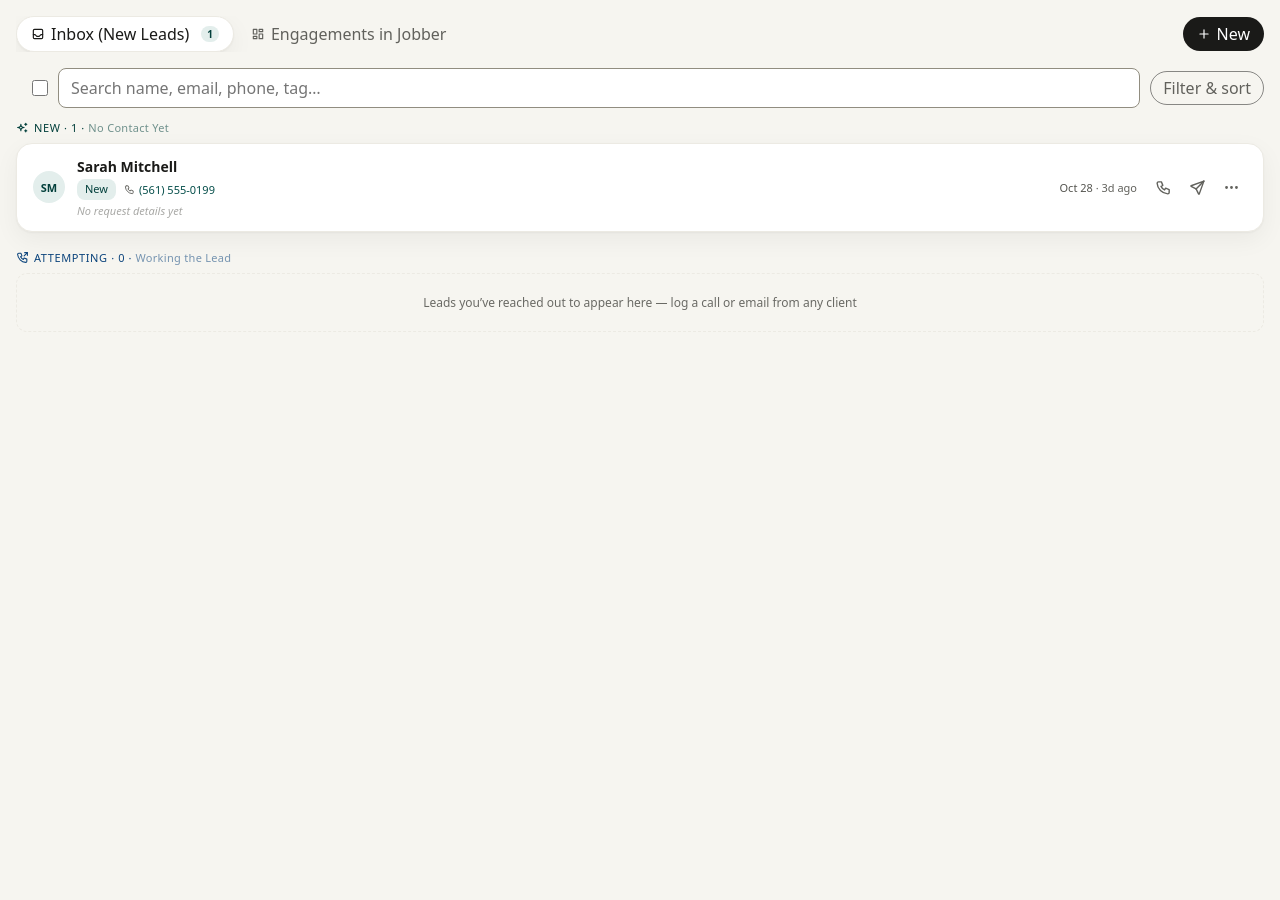
Scenario: log call re-derives across lenses (HiveShell) › moves the Inbox row New → Attempting instantly, and POSTs the real write
The width and height of the screenshot is (1280, 900).
Step 1. Click the button named "Log call" → (1163, 187), box [1147,171,1179,203]
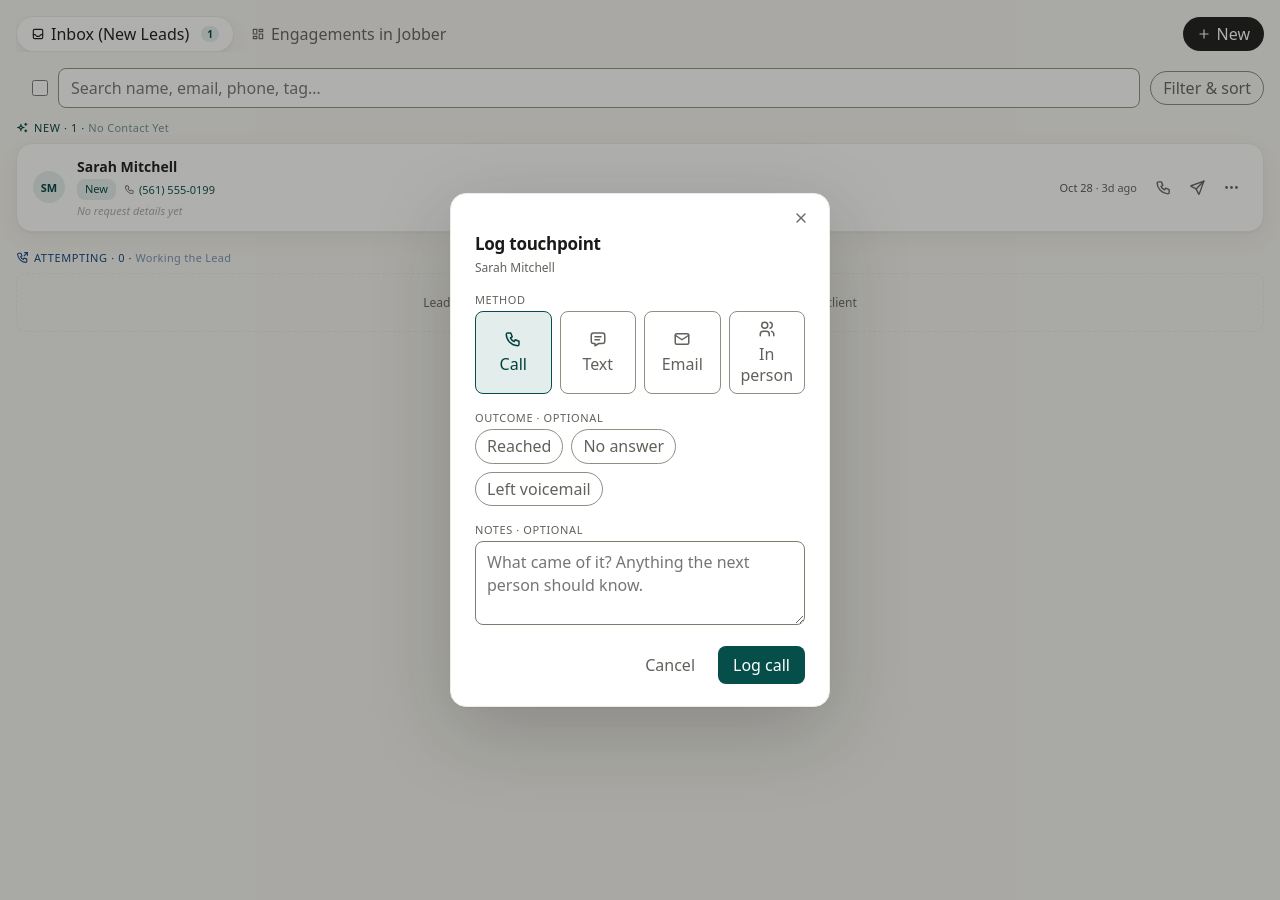
Now the button "Log call" is shown
Step 2. Click the button "Log call" → (762, 665), box [718,646,805,684]
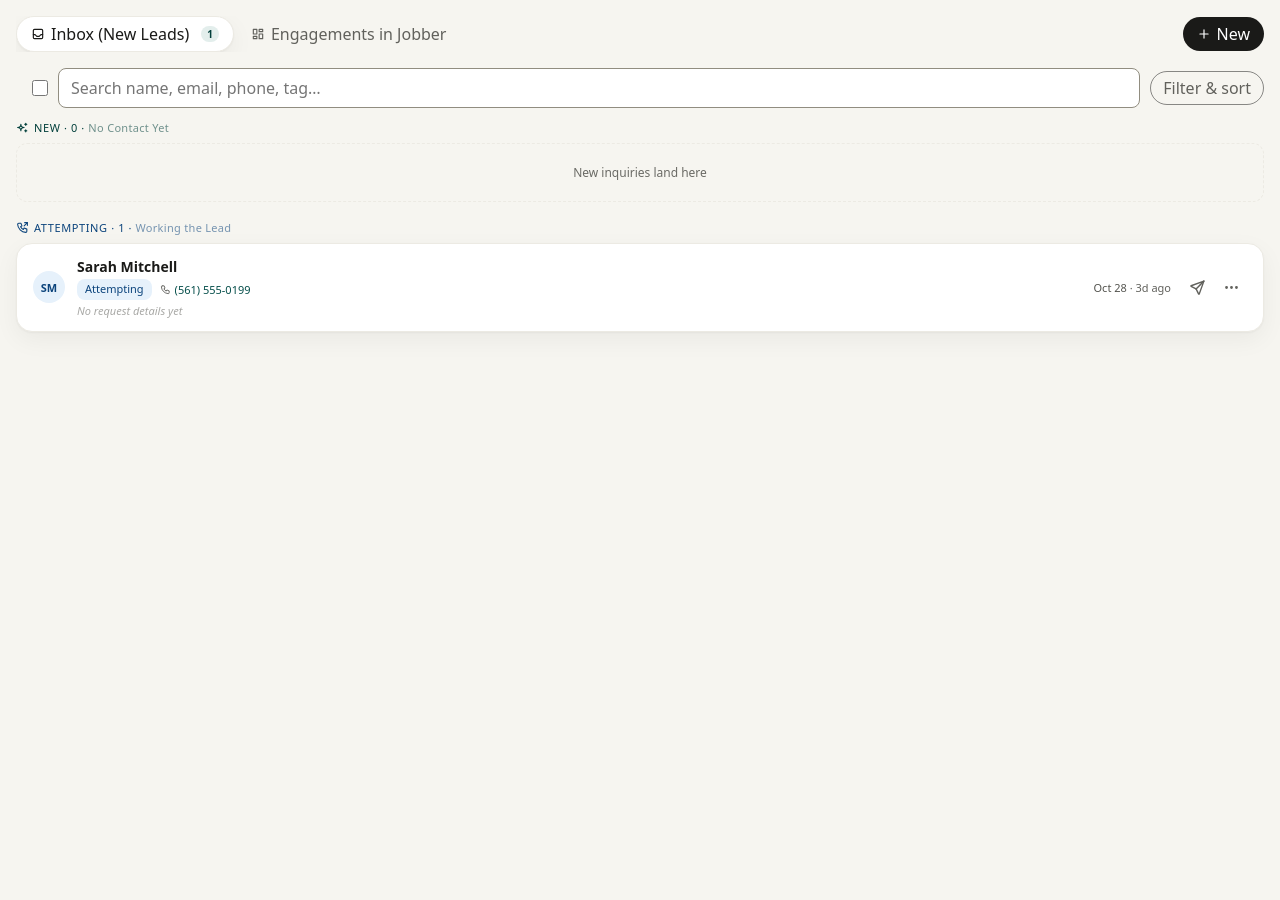
Now the text "New · 0" is shown, box [16,120,169,135]
Now the text "Attempting · 1" is shown, box [16,220,231,235]
